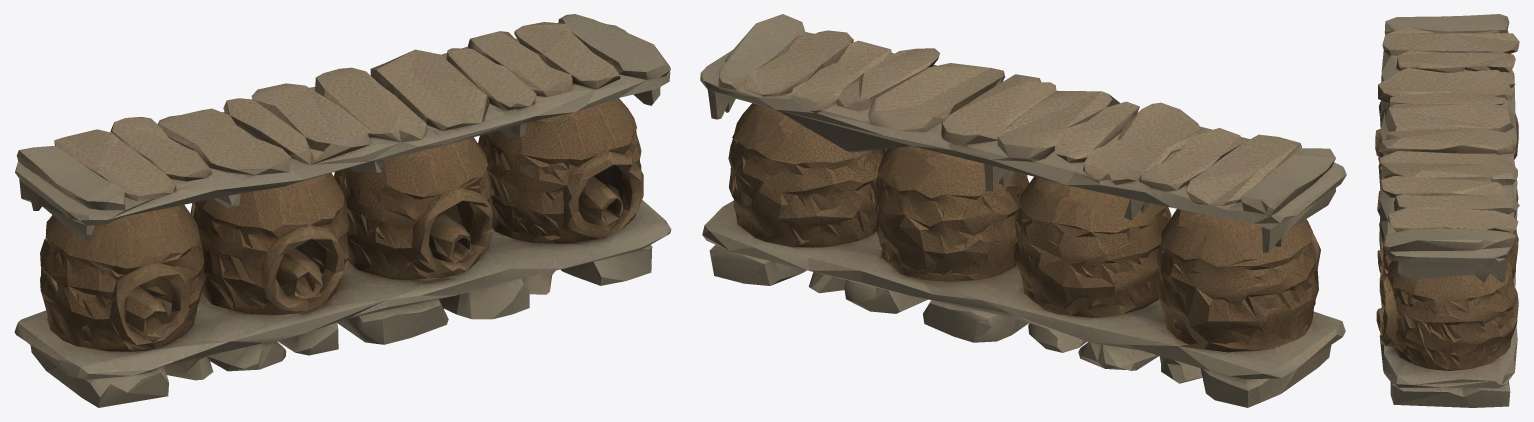
Rendered from beehives-roman.glb.
3 renders of one model, left to right at view 1: azimuth 30°, elevation 25°; view 2: azimuth 150°, elevation 25°; view 3: azimuth 270°, elevation 25°, orthographic. The views are drawn at different scales.
Parts seen in each view (by area): view 1: beehives-roman; view 2: beehives-roman; view 3: beehives-roman.
Boxes of the visible parts, box(x1,y1,x2,y2) form: beehives-roman: box(14, 14, 671, 407); beehives-roman: box(700, 14, 1346, 407); beehives-roman: box(1375, 14, 1519, 407).
Size of the model in its own units: 1.6 by 0.5384 by 0.4102.
Materials: 1 (1 with a texture image).
